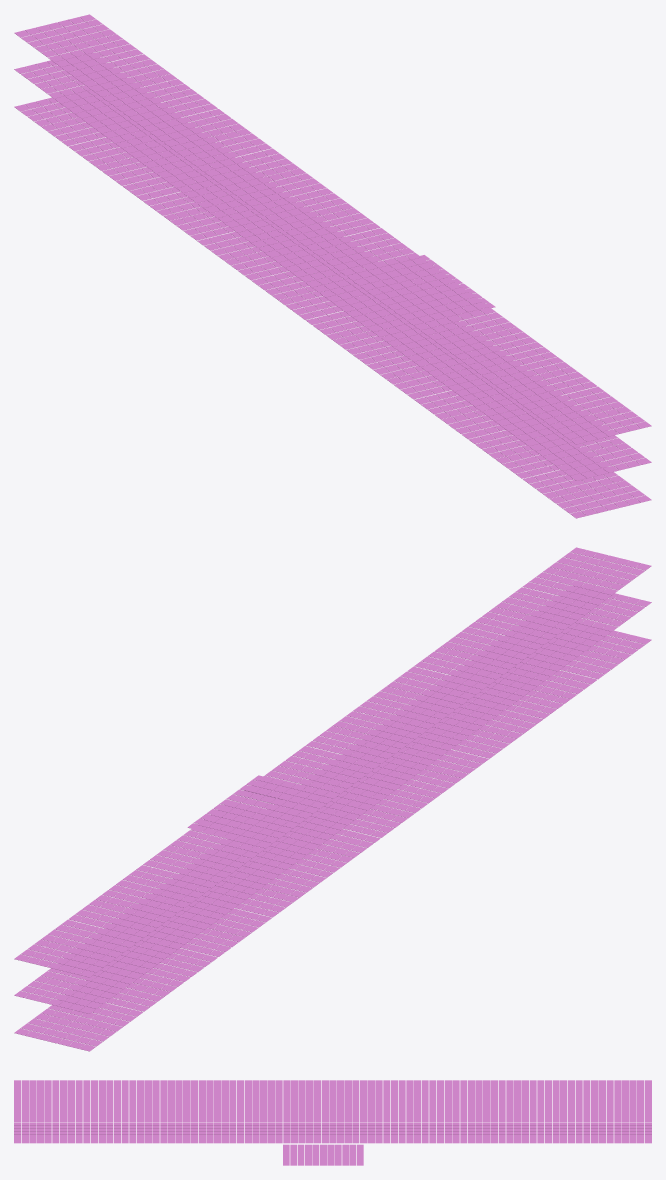
Rendered from Tiles.glb.
3 views of the same model, one above another, from view 1: azimuth 30°, elevation 25°; view 2: azimuth 150°, elevation 25°; view 3: azimuth 270°, elevation 25° (orthographic). The views are drawn at different scales.
Parts seen in each view (by area): view 1: no part large enough to name; view 2: no part large enough to name; view 3: Cube.182, Cube.201, Cube.204, Cube.208, Cube.214, Cube.218, Cube.221, Cube.225, Cube.231, Cube.258, Cube.266, Cube.277 (+238 smaller).
Part boxes in pixels (box(x1,y1,x2,y2)): Cube.182: box(29, 1122, 36, 1143); Cube.201: box(152, 1122, 159, 1143); Cube.204: box(175, 1122, 182, 1143); Cube.208: box(206, 1122, 213, 1143); Cube.214: box(252, 1122, 259, 1143); Cube.218: box(275, 1122, 282, 1143); Cube.221: box(298, 1122, 305, 1143); Cube.225: box(329, 1122, 336, 1143); Cube.231: box(375, 1122, 382, 1143); Cube.258: box(452, 1122, 459, 1143); Cube.266: box(475, 1122, 482, 1143); Cube.277: box(506, 1122, 513, 1143).
Bounding box in the file's own units: 33.37 × 15.15 × 208.
